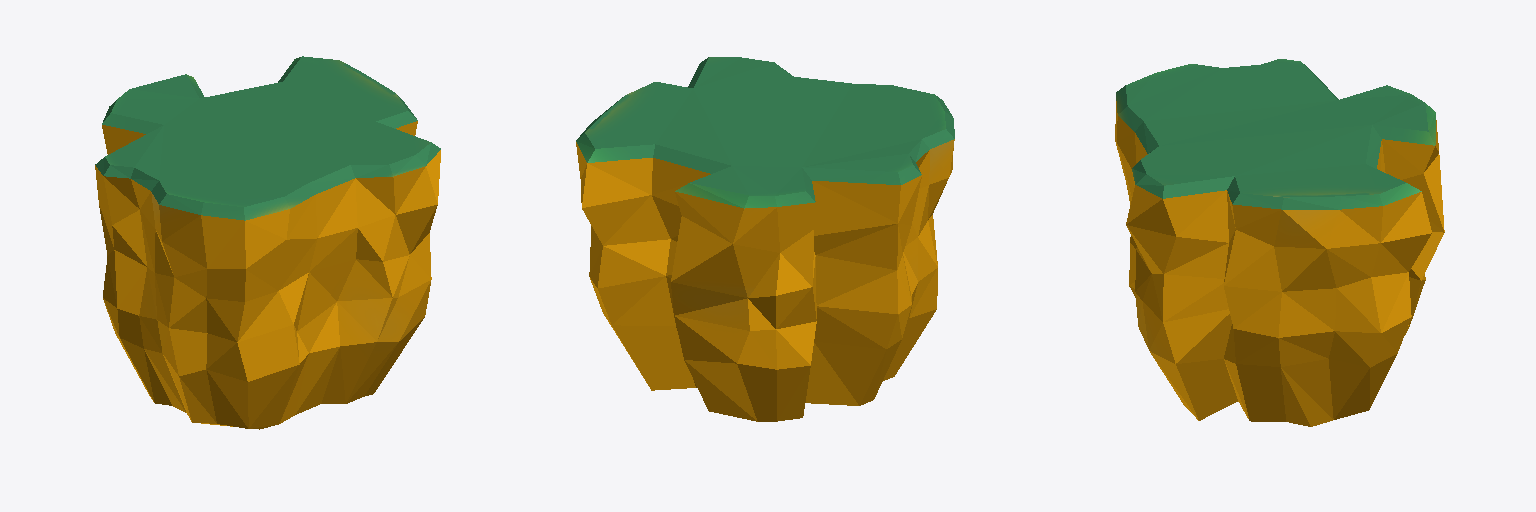
3 renders of one model, left to right at view 1: azimuth 30°, elevation 25°; view 2: azimuth 150°, elevation 25°; view 3: azimuth 270°, elevation 25°, orthographic.
Parts seen in each view (by area): view 1: Plane.002_Plane.003; view 2: Plane.002_Plane.003; view 3: Plane.002_Plane.003.
Boxes of the visible parts, x1,y1,x2,y2 form: Plane.002_Plane.003: [95, 56, 440, 429]; Plane.002_Plane.003: [576, 57, 954, 421]; Plane.002_Plane.003: [1115, 59, 1444, 426].
Size of the model in its own units: 6.58 by 5.23 by 6.12.
Materials: 1 (1 with a texture image).